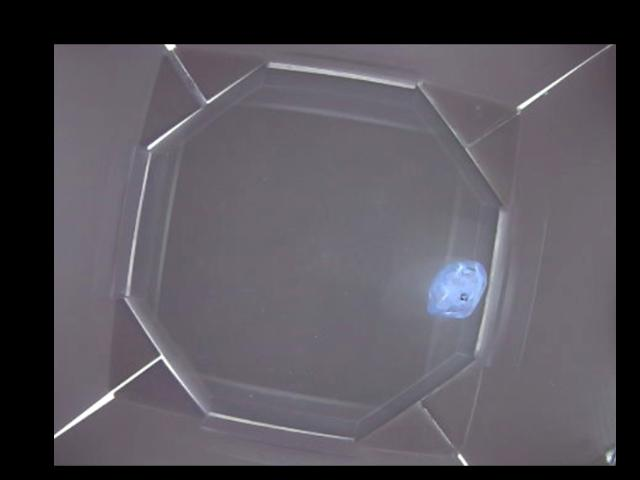Pebble: (425, 257, 485, 315)
